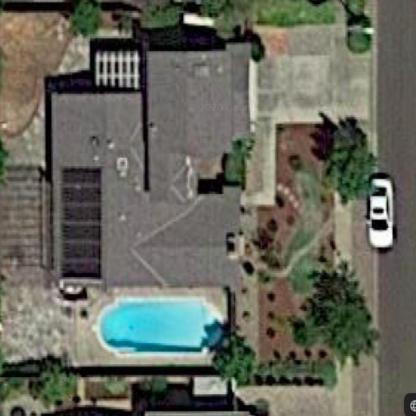car: (355, 168, 400, 258)
solar_panel: (52, 158, 113, 288)
swimming_pool: (80, 285, 234, 372)
